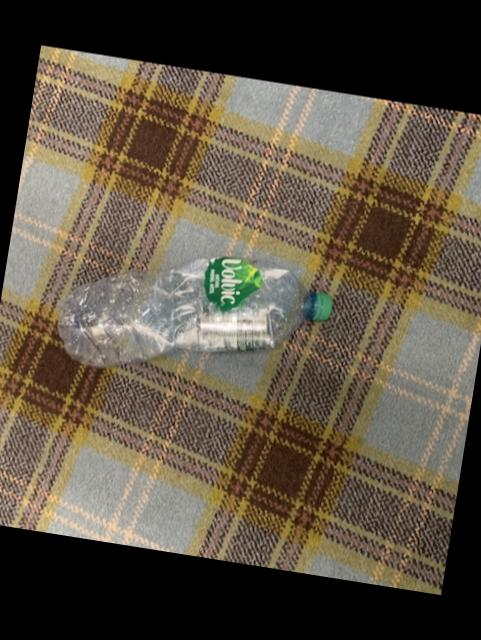plastic: (59, 256, 333, 366)
